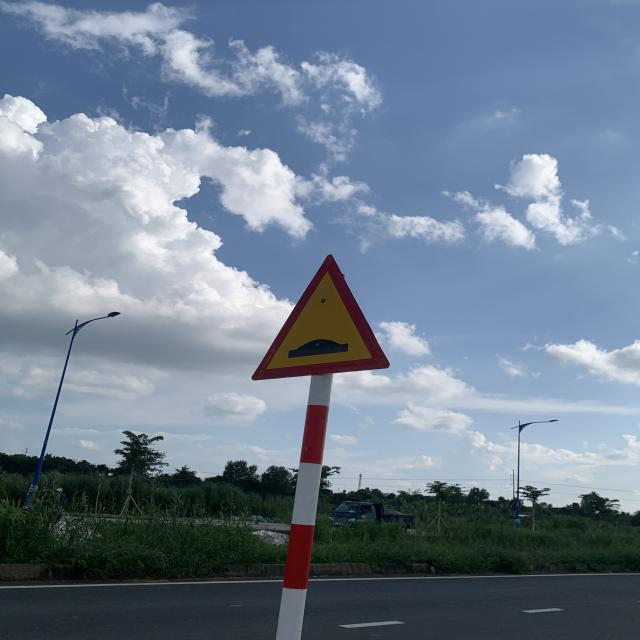Duong_Cong_Ben_Phai: (251, 253, 394, 381)
